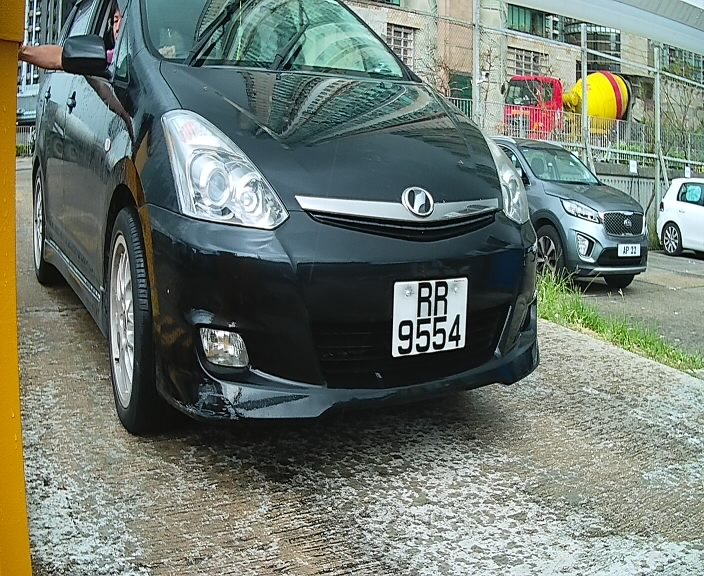Car: (36, 2, 551, 480)
License Plate: (385, 270, 476, 371)
